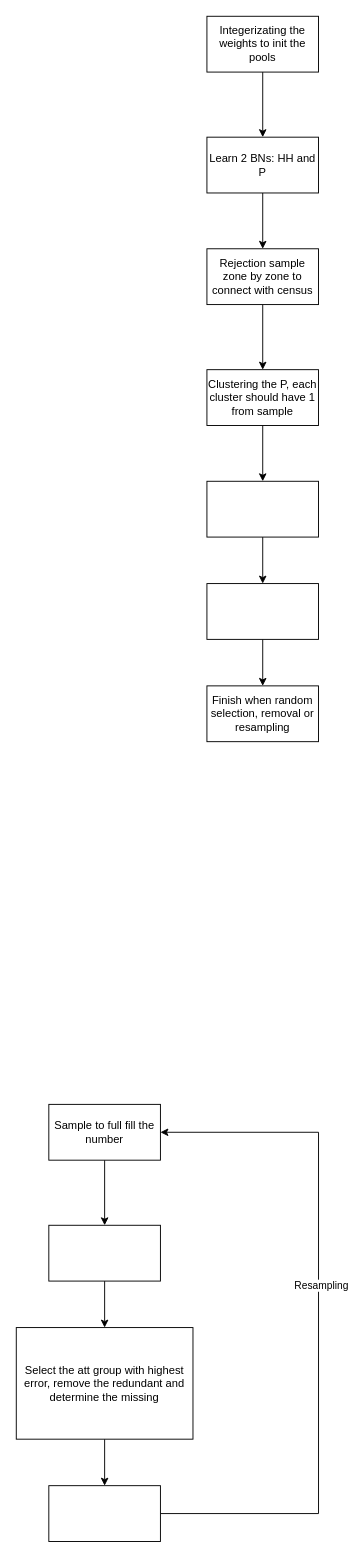
Image size: 364x1558. Some labels were removed from this diagram. Here are the shapes that lost their labels. From the top down, the centre of each, then its label:
point (262, 508): Deep Learning to match HH atts with the cluster
point (262, 611): Select HH based on the sample
point (104, 1252): Check the error rate (mismatch with census) for each att group
point (104, 1513): Add extra evidence for rejection sampling
